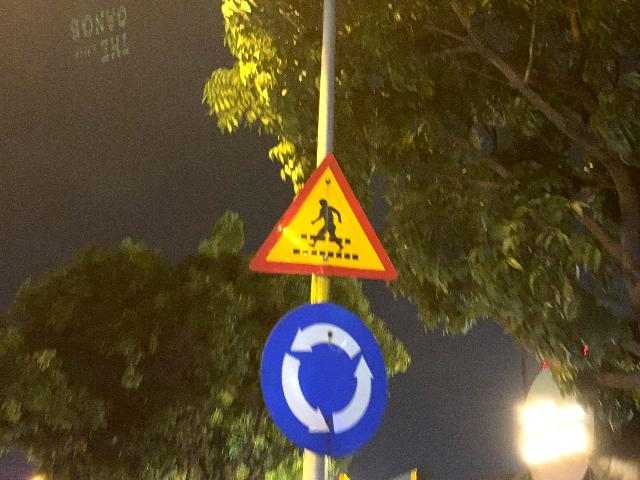duong-nguoi-di-bo-cat-ngang: (251, 151, 397, 279)
noi-giao-nhau-chay-theo-vong-xuyen: (259, 302, 388, 457)
